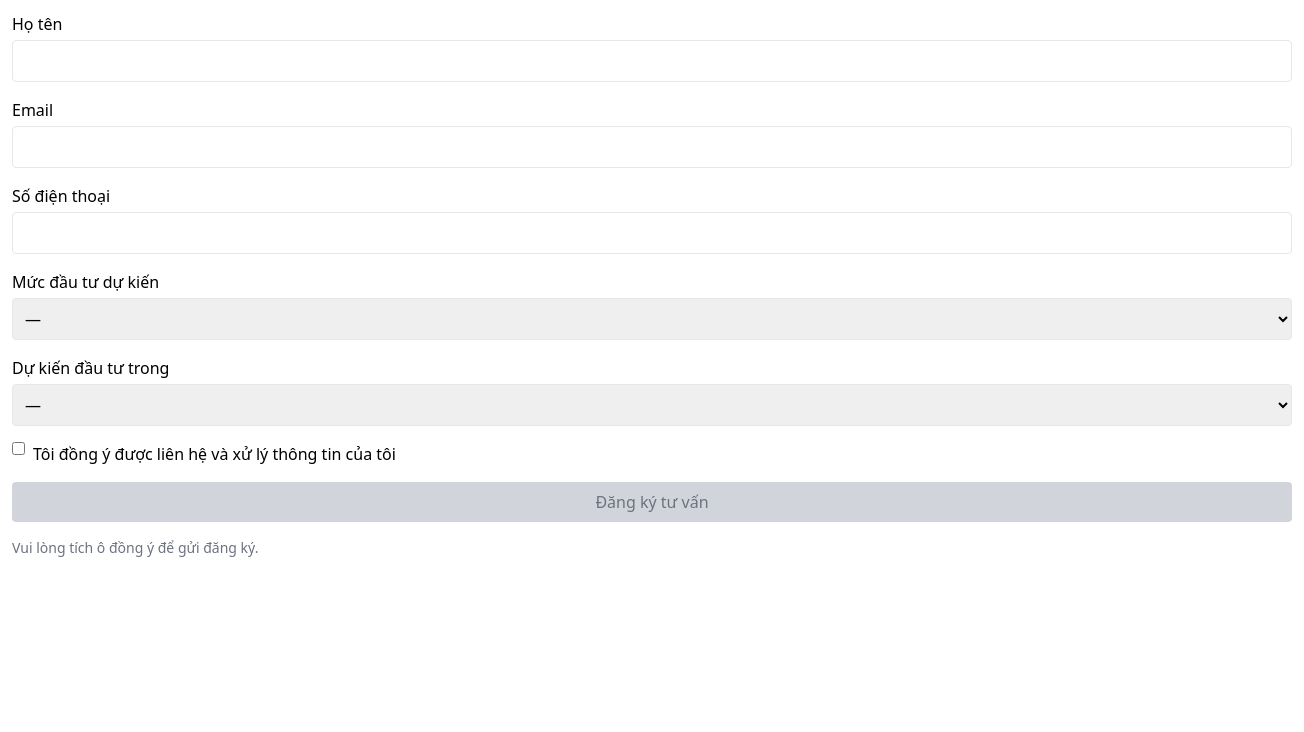
Test: LeadForm › submits the expected payload and shows success
The width and height of the screenshot is (1304, 732).
Type "An Nguyen" into the field labelled "Họ tên" at (652, 61), box [12,40,1292,82]
Type "an@gmail.com" into the field labelled "Email" at (652, 147), box [12,126,1292,168]
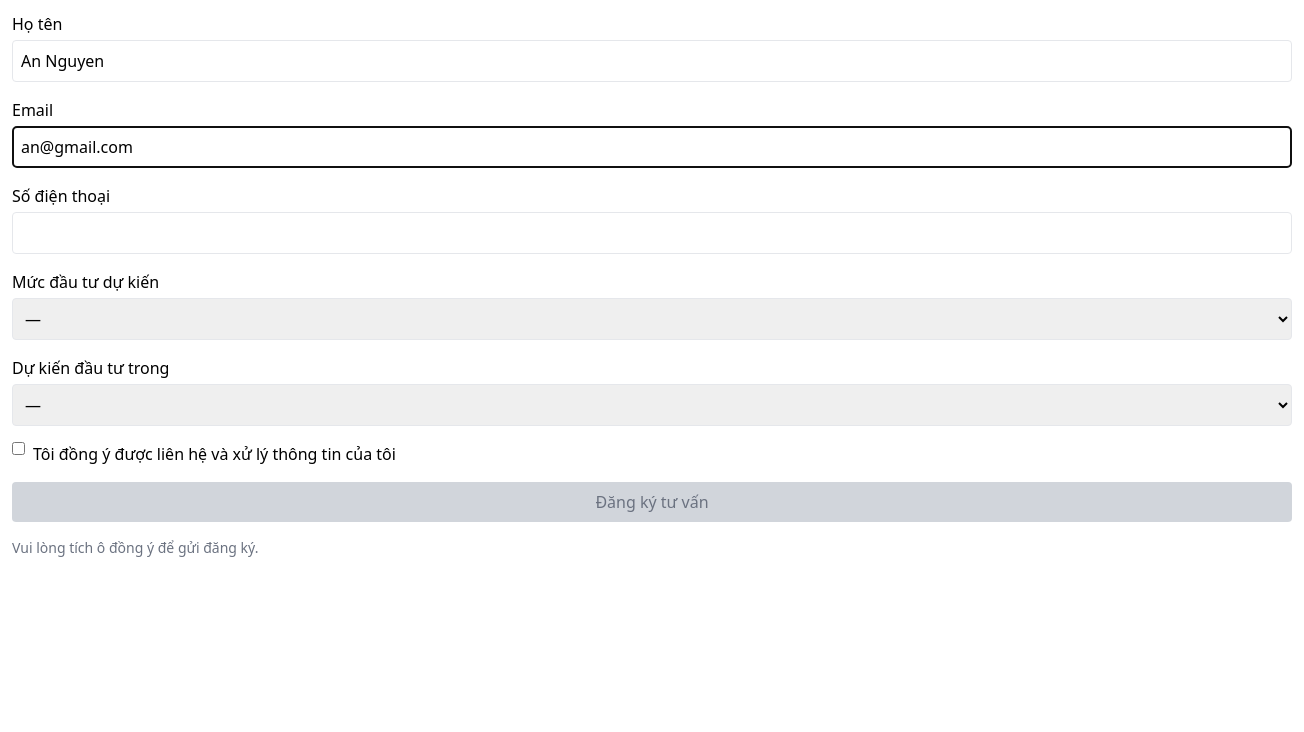
Type "0912345678" into the field labelled "Số điện thoại" at (652, 233), box [12,212,1292,254]
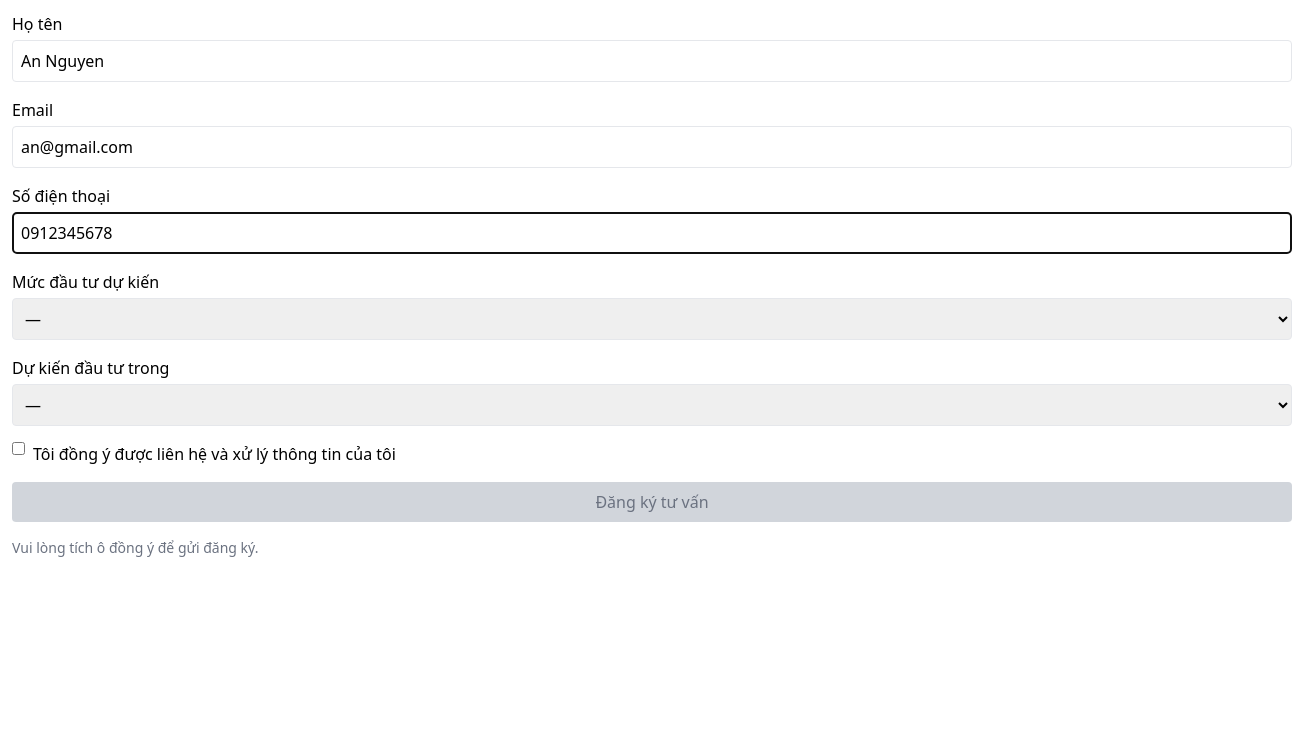
Select "Trên 1 tỷ" in the dropdown labelled "Mức đầu tư dự kiến" at (652, 319), box [12,298,1292,340]
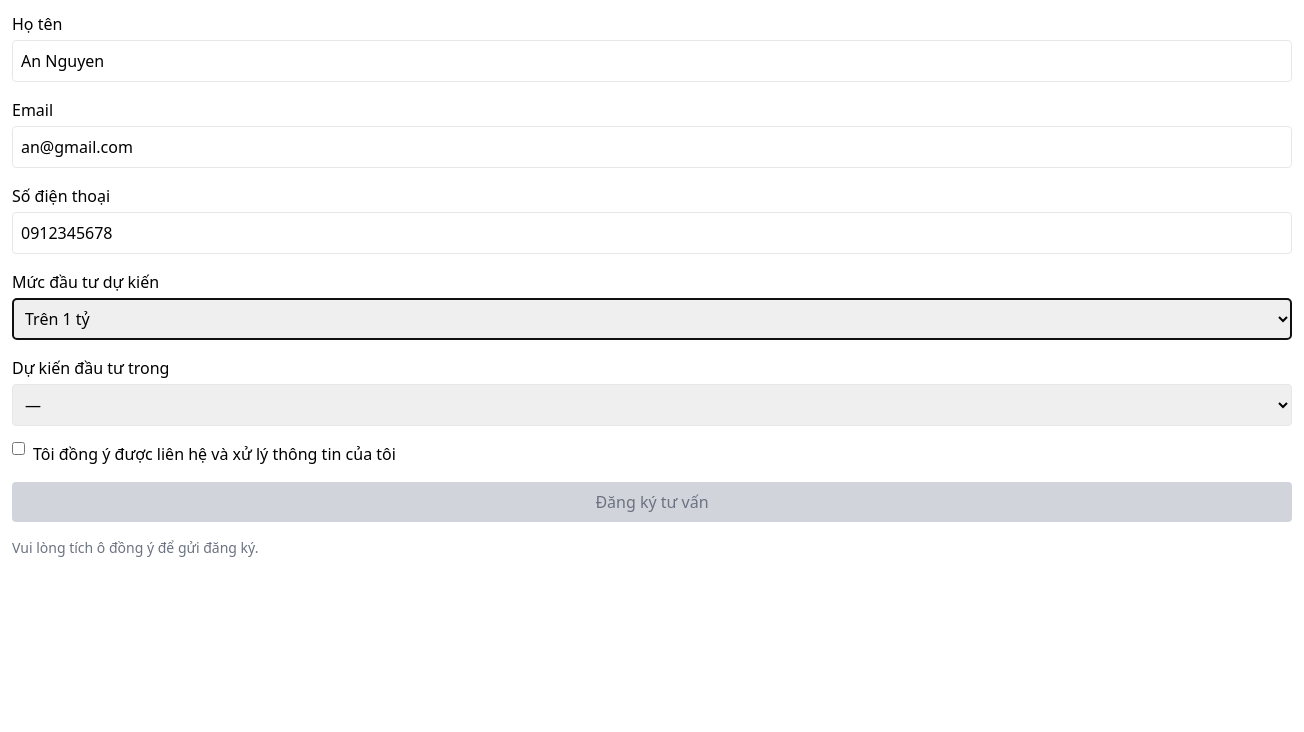
Select "Trong 1 tháng" in the dropdown labelled "Dự kiến đầu tư trong" at (652, 405), box [12,384,1292,426]
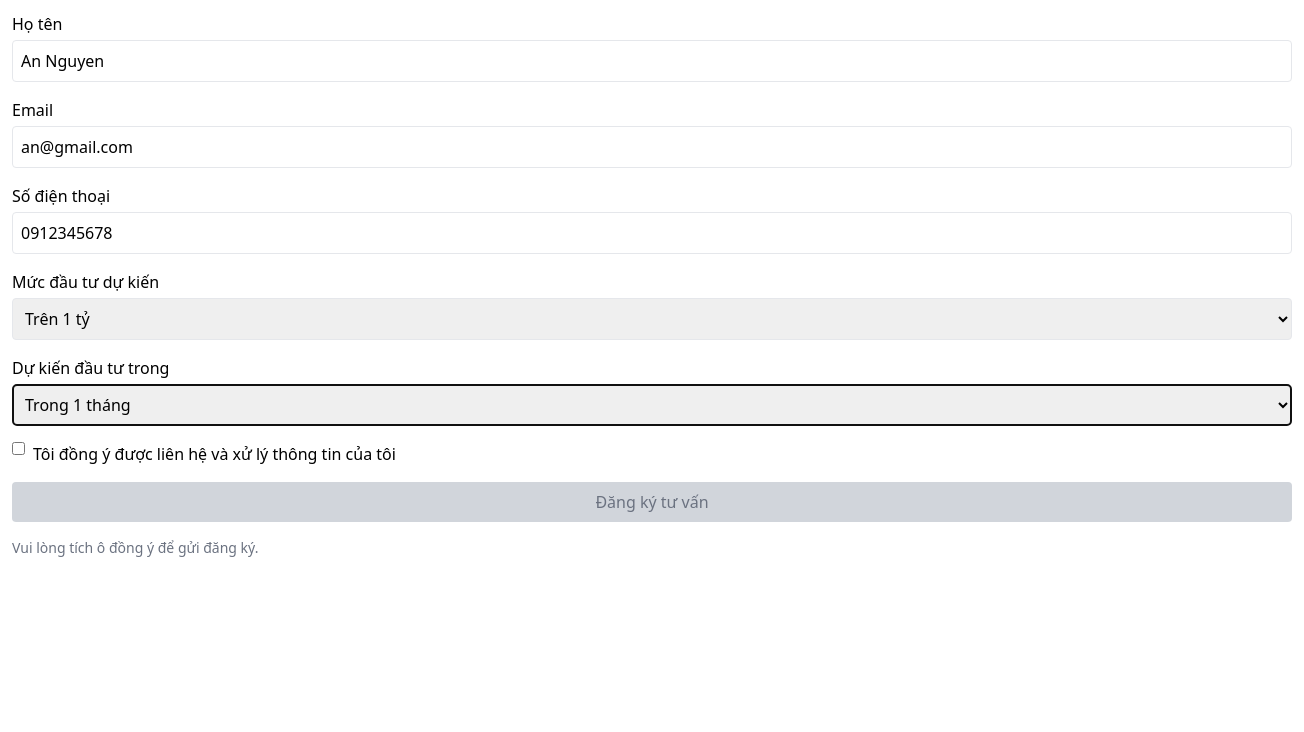
Click the checkbox labelled "Tôi đồng ý được liên hệ và xử lý thông tin của tôi" at (18, 448), box [12,442,25,455]
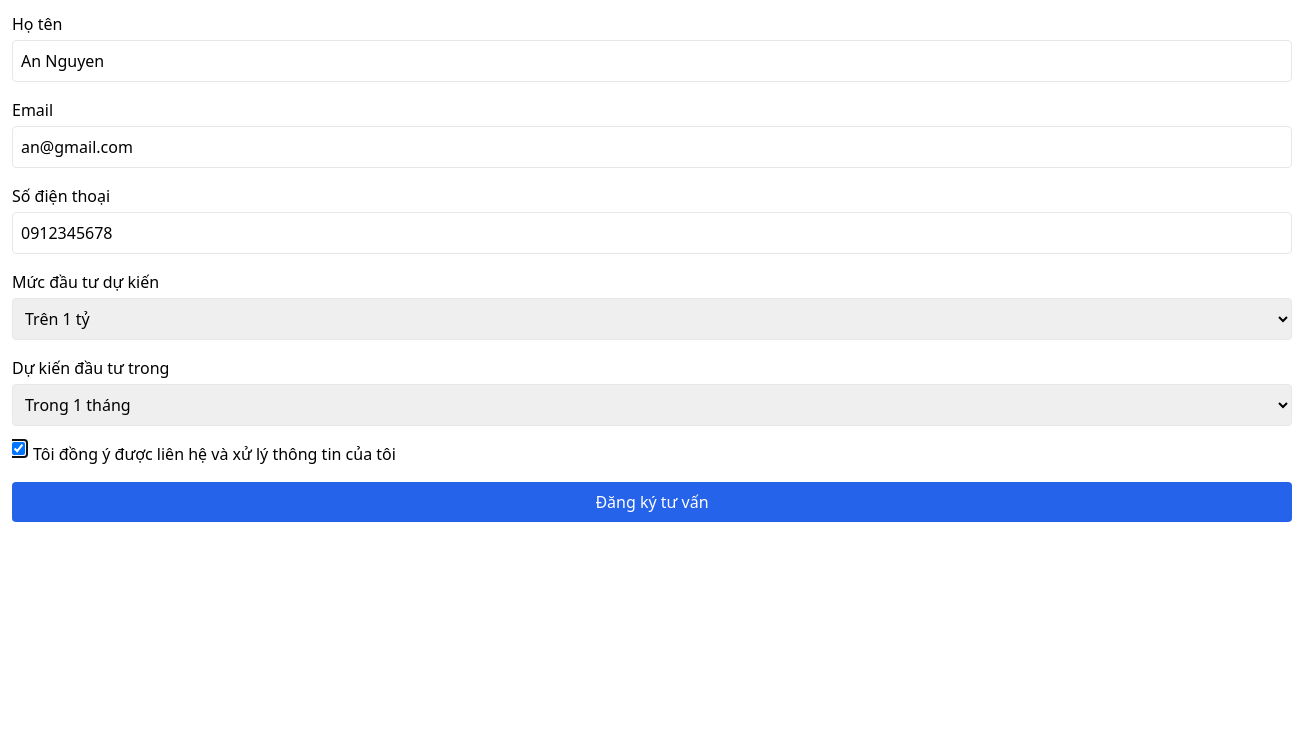
Click the button "Đăng ký tư vấn" at (652, 502), box [12,482,1292,522]
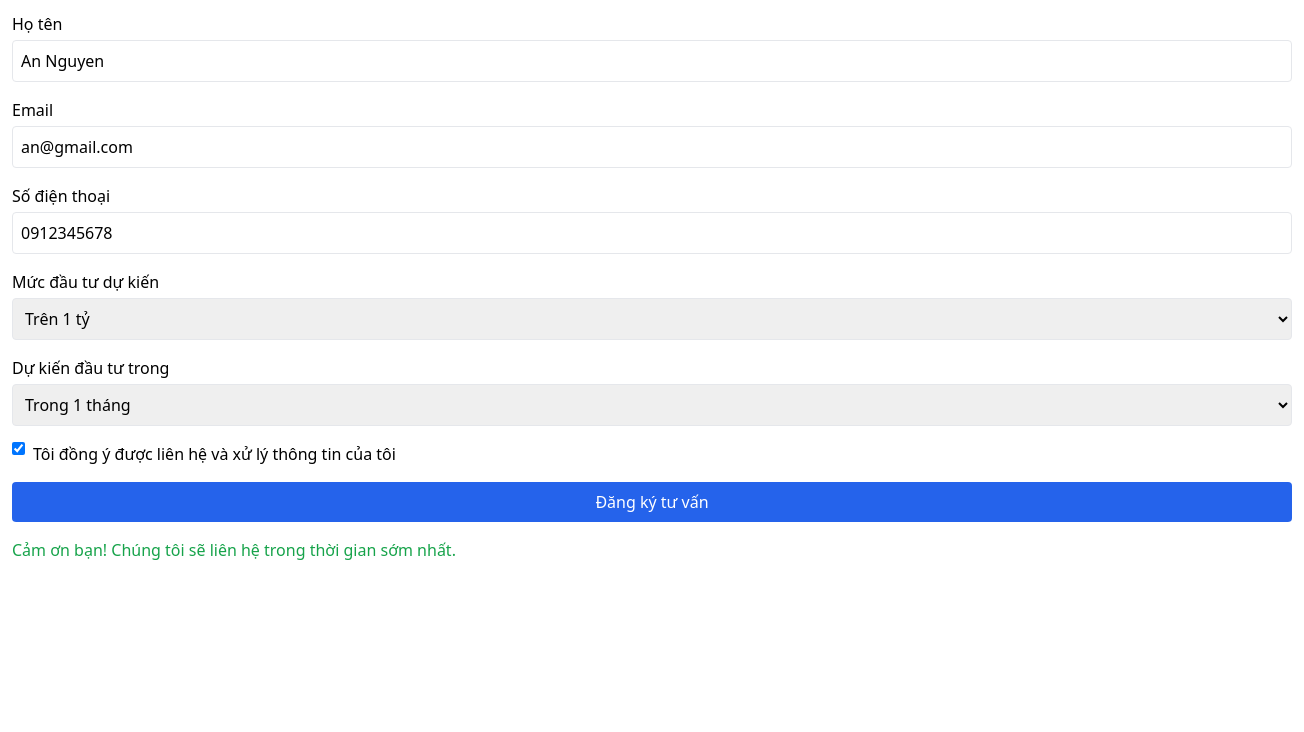
Check: the text "Cảm ơn bạn! Chúng tôi sẽ liên hệ trong thời gian sớm nhất." is shown, box [12,539,456,561]
